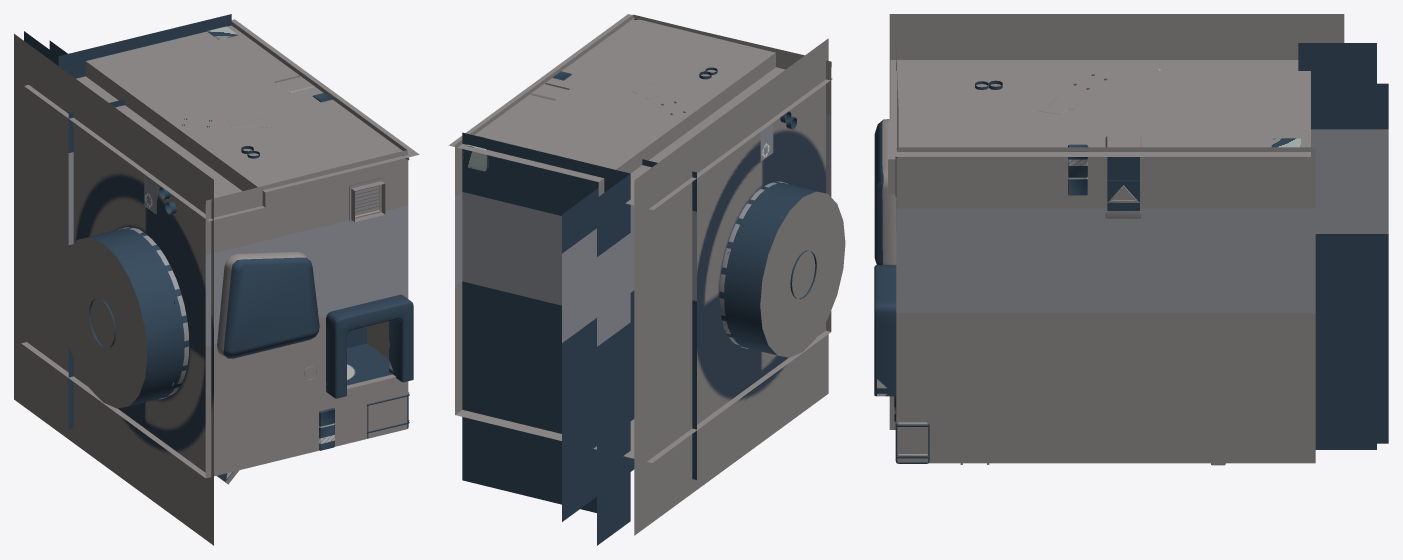
File: Staff_Room_Niveau_test.fbx
3 renders of one model, left to right at view 1: azimuth 30°, elevation 25°; view 2: azimuth 150°, elevation 25°; view 3: azimuth 270°, elevation 25°, orthographic. The views are drawn at different scales.
Visible parts, largest first — view 1: SM_SR_ventillateur, SM_SR_fondation_01, SM_SR_fondation_05, SM_SR_horloge, SM_SR_Door_S, SM_SR_fondation_03, SM_SR_fondation_02, SM_SR_fondation_04, SM_SR_Vent, SM_SR_casier_fermer_01; view 2: SM_SR_ventillateur, SM_SR_fondation_03, SM_SR_fondation_05, SM_SR_fondation_04, SM_SR_fondation_01, SM_SR_four; view 3: SM_SR_fondation_01, SM_SR_fondation_05, SM_SR_fondation_04, SM_SR_ventillateur, SM_SR_fondation_03, SM_SR_Door_S, SM_SR_horloge, SM_SR_toilets, SM_SR_casier_fermer.
Boxes of the visible parts, box(x1,y1,x2,y2) form: SM_SR_ventillateur: box(14, 34, 213, 545); SM_SR_fondation_01: box(21, 22, 408, 478); SM_SR_fondation_05: box(24, 19, 419, 221); SM_SR_horloge: box(217, 252, 319, 358); SM_SR_Door_S: box(326, 294, 413, 398); SM_SR_fondation_03: box(24, 14, 231, 78); SM_SR_fondation_02: box(216, 326, 392, 484); SM_SR_fondation_04: box(49, 40, 124, 429); SM_SR_Vent: box(349, 177, 382, 221); SM_SR_casier_fermer_01: box(319, 408, 334, 450); SM_SR_ventillateur: box(634, 38, 845, 535); SM_SR_fondation_03: box(462, 132, 630, 545); SM_SR_fondation_05: box(449, 14, 832, 210); SM_SR_fondation_04: box(562, 159, 696, 521); SM_SR_fondation_01: box(455, 14, 831, 462); SM_SR_four: box(463, 136, 496, 171); SM_SR_fondation_01: box(888, 41, 1315, 463); SM_SR_fondation_05: box(890, 60, 1310, 156); SM_SR_fondation_04: box(1311, 83, 1388, 443); SM_SR_ventillateur: box(889, 14, 1344, 429); SM_SR_fondation_03: box(1298, 43, 1376, 449); SM_SR_Door_S: box(874, 265, 896, 396); SM_SR_horloge: box(874, 119, 896, 264); SM_SR_toilets: box(1105, 136, 1141, 218); SM_SR_casier_fermer: box(1068, 144, 1088, 195).
Bounding box in the file's own units: 2297 × 3267 × 3604.
